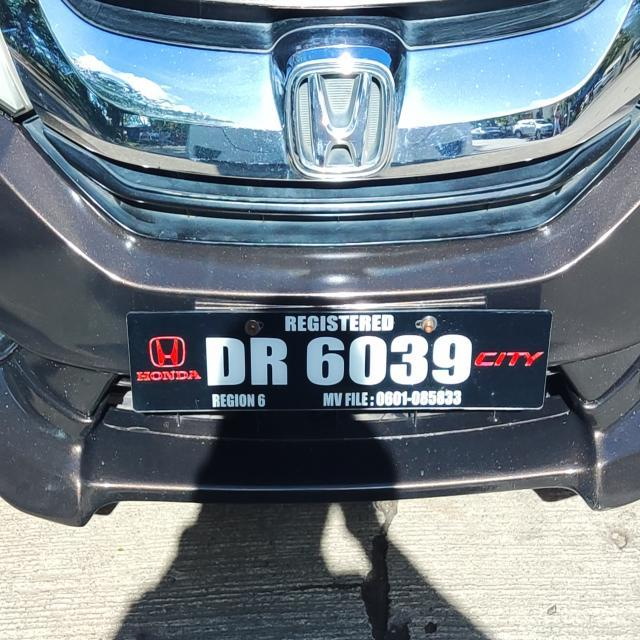LicensePlate: (128, 298, 561, 418)
